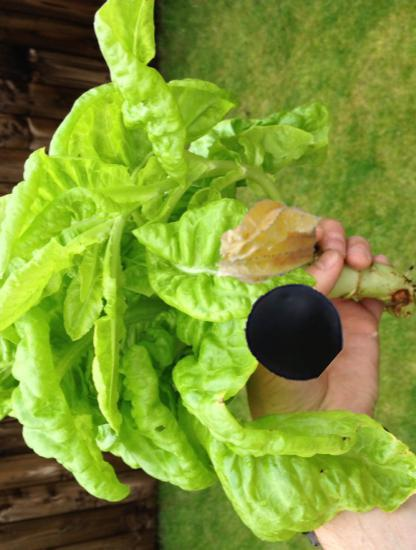Grape: (246, 282, 343, 379)
Physalis: (202, 178, 329, 305)
